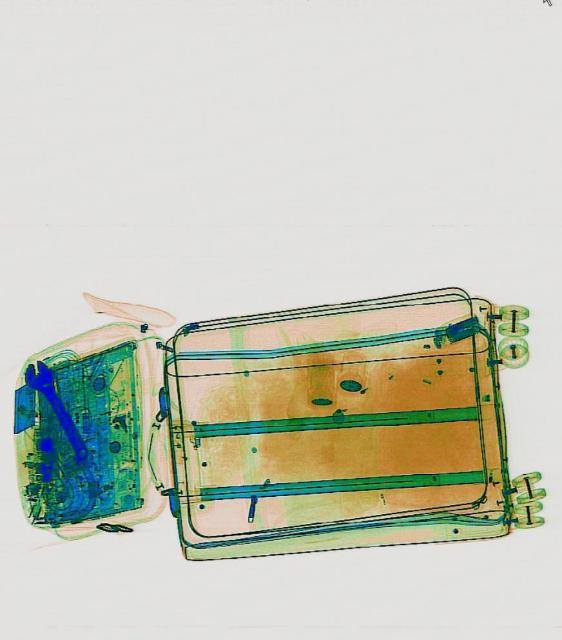Wrench: (18, 353, 100, 467)
